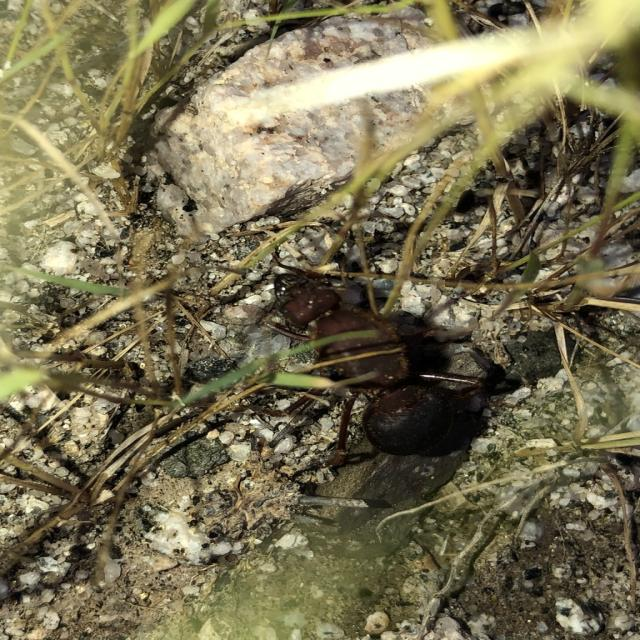Alive-Female-Dealate: (258, 273, 482, 457)
